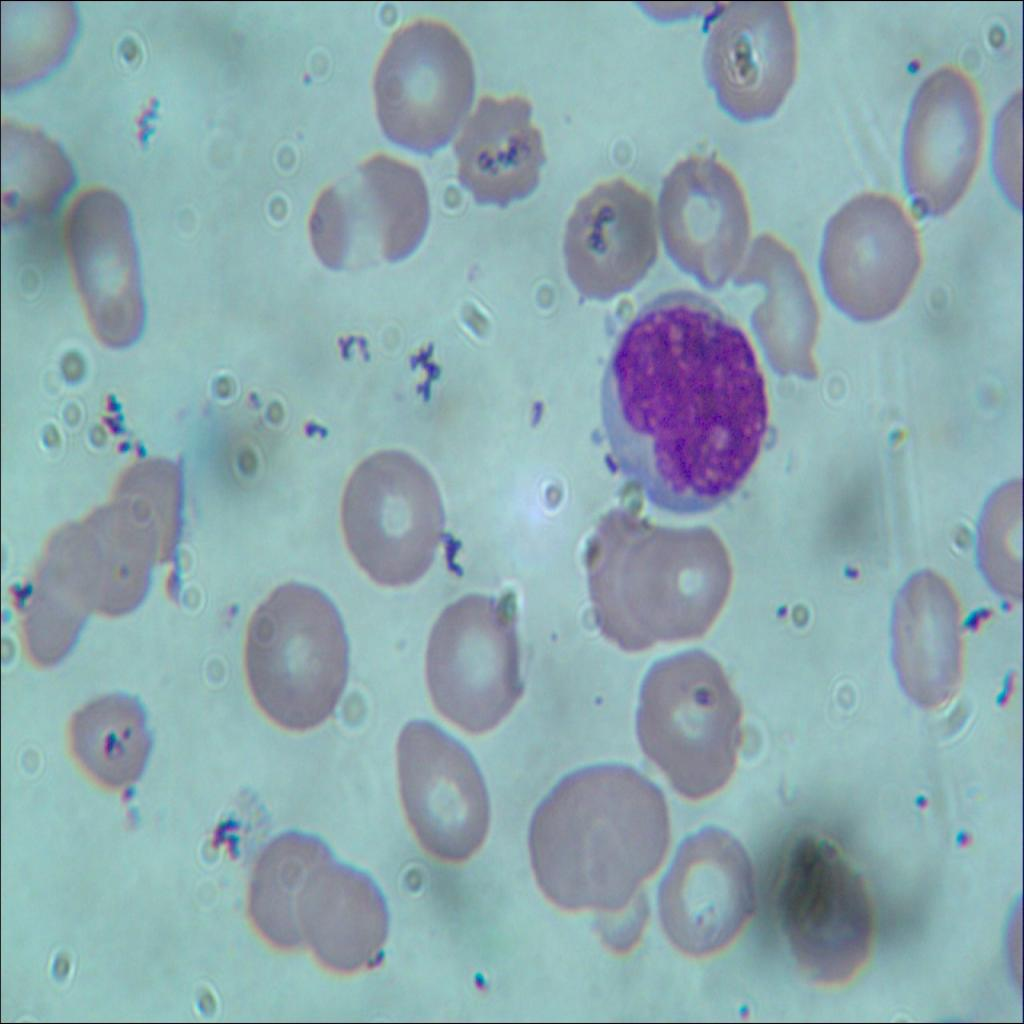Eritrosit: (531, 764, 663, 909), (241, 572, 355, 735), (641, 140, 751, 298), (633, 644, 746, 795), (331, 445, 442, 595), (415, 586, 529, 730), (776, 844, 886, 989), (304, 151, 434, 272), (386, 718, 491, 864), (66, 182, 152, 360), (729, 232, 826, 388), (450, 86, 558, 216), (624, 524, 738, 647), (821, 191, 921, 328), (56, 675, 166, 798), (372, 17, 478, 142), (559, 175, 656, 305), (698, 0, 802, 121), (573, 504, 659, 650), (662, 817, 751, 955), (902, 67, 984, 216), (234, 826, 328, 950), (882, 571, 966, 708), (294, 855, 388, 975), (18, 527, 100, 663), (66, 497, 154, 622), (106, 442, 183, 575), (0, 123, 78, 231)
Limfoblast: (598, 287, 776, 515)
Platelet: (906, 762, 939, 824), (830, 550, 864, 604), (690, 671, 726, 721), (113, 776, 148, 822), (954, 815, 986, 864), (468, 954, 493, 1004), (774, 588, 799, 634), (902, 38, 924, 88), (218, 595, 242, 622)
